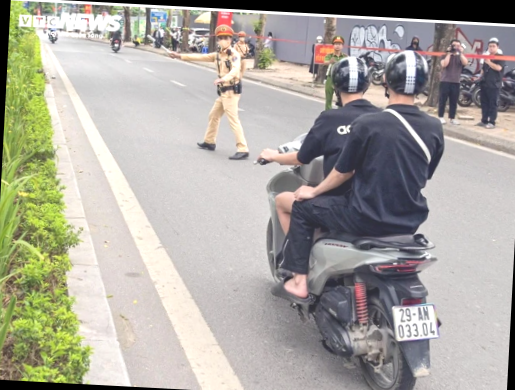Bien-so: (386, 301, 442, 347)
